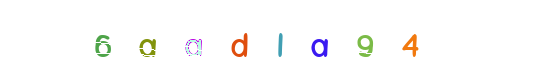4: (280, 0, 360, 80)
6: (169, 0, 249, 80)
9: (277, 0, 357, 80)
A: (180, 0, 260, 80), (192, 0, 272, 80), (240, 0, 320, 80)
D: (225, 0, 305, 80)
L: (230, 0, 310, 80)
